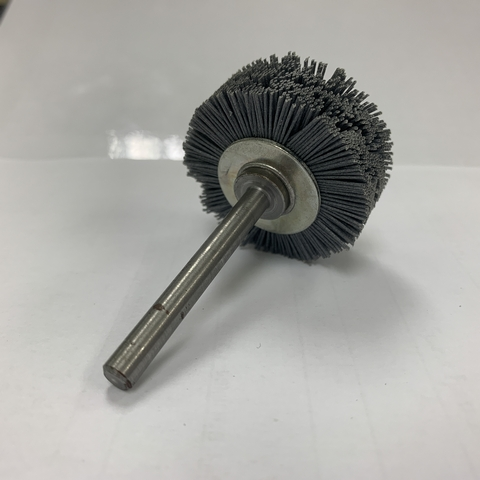Wheel Brush: (29, 64, 460, 369), (77, 48, 435, 400), (96, 28, 378, 412)
